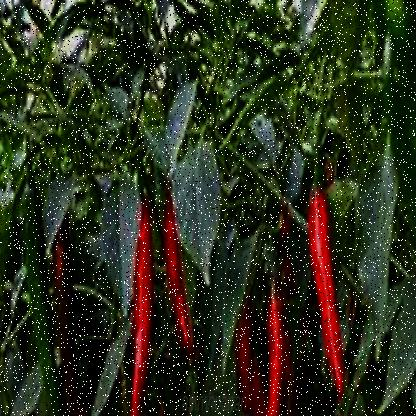chili: (302, 185, 357, 401), (130, 201, 158, 410)
